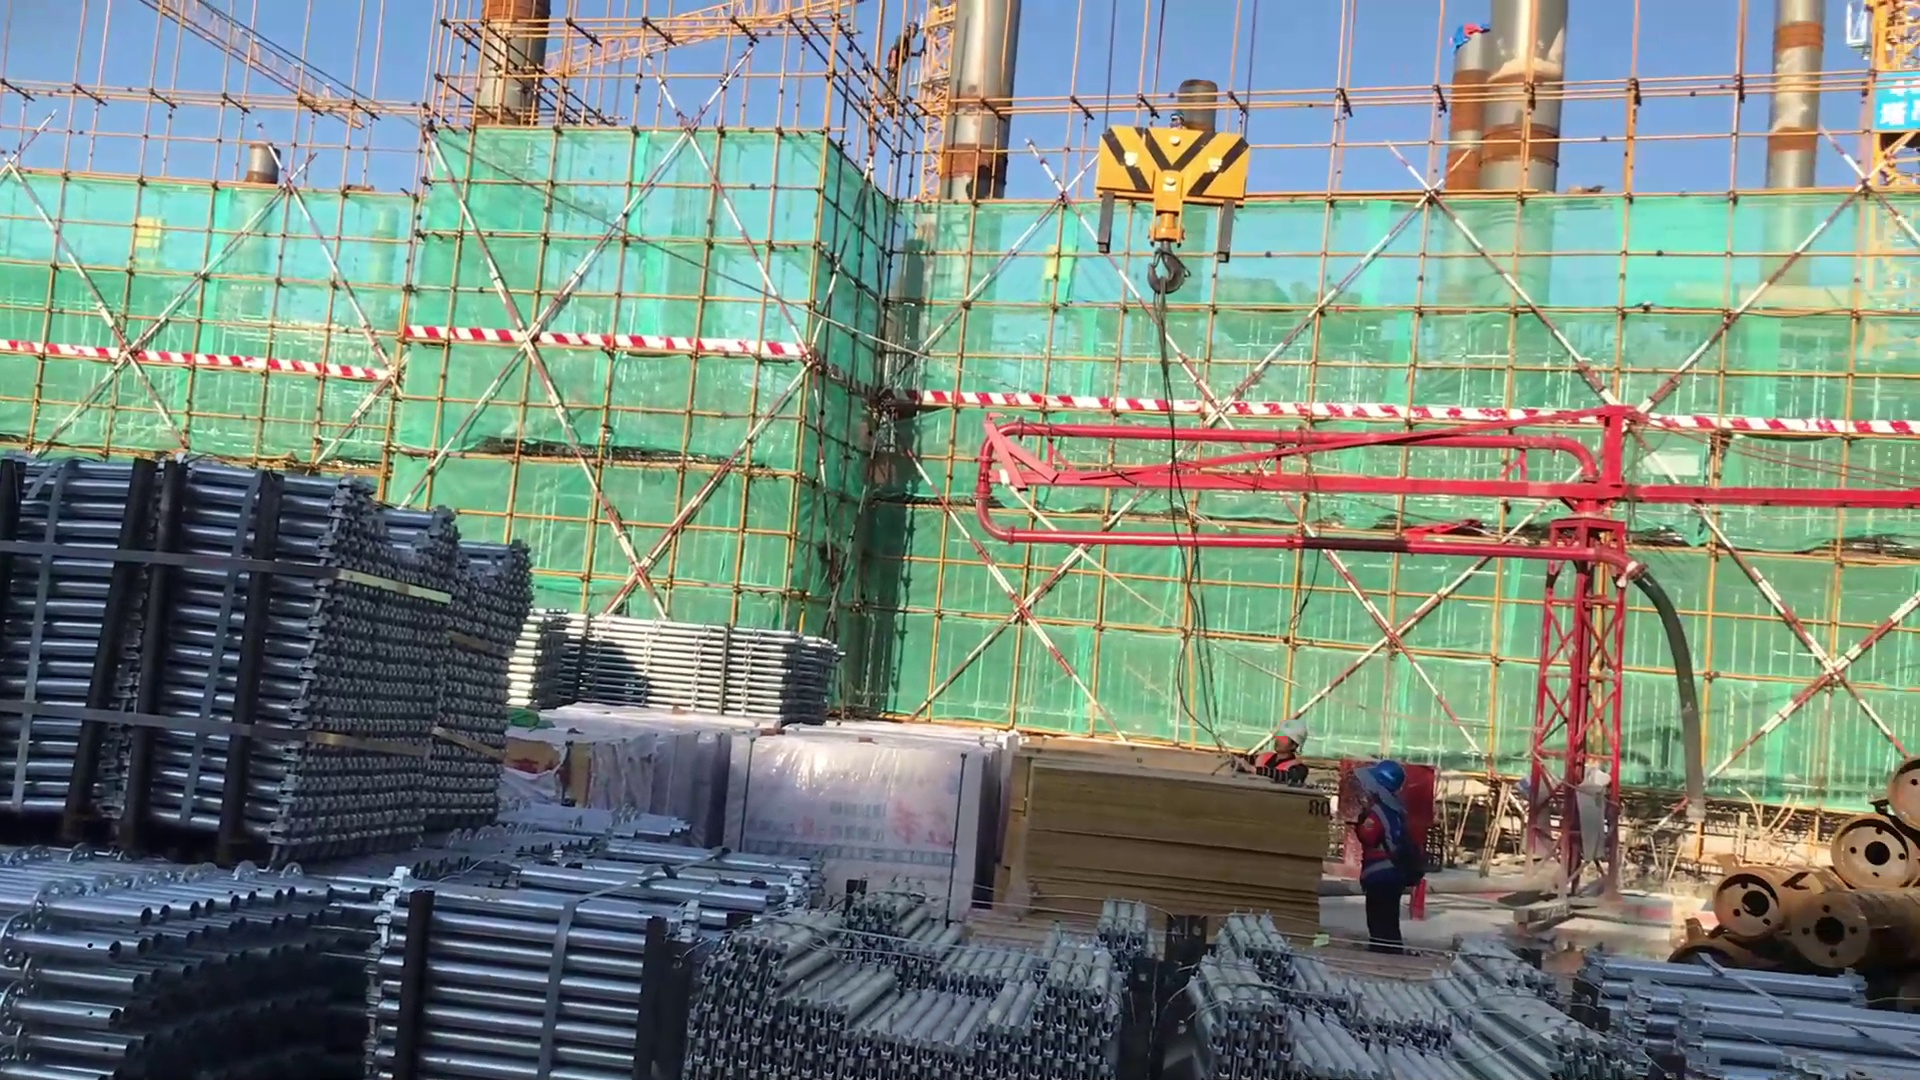board: (997, 744, 1337, 954)
helmet: (1364, 754, 1409, 794), (1268, 718, 1305, 751)
hook: (1080, 126, 1250, 353)
person: (1338, 750, 1423, 952), (1212, 715, 1326, 789), (878, 18, 923, 94)
scaffold: (1, 469, 551, 850), (378, 788, 786, 1080), (686, 863, 1142, 1080), (1, 856, 377, 1080), (1184, 907, 1620, 1080), (1573, 952, 1920, 1076), (475, 617, 856, 710)
vest: (1356, 796, 1413, 889), (1247, 747, 1309, 787)
